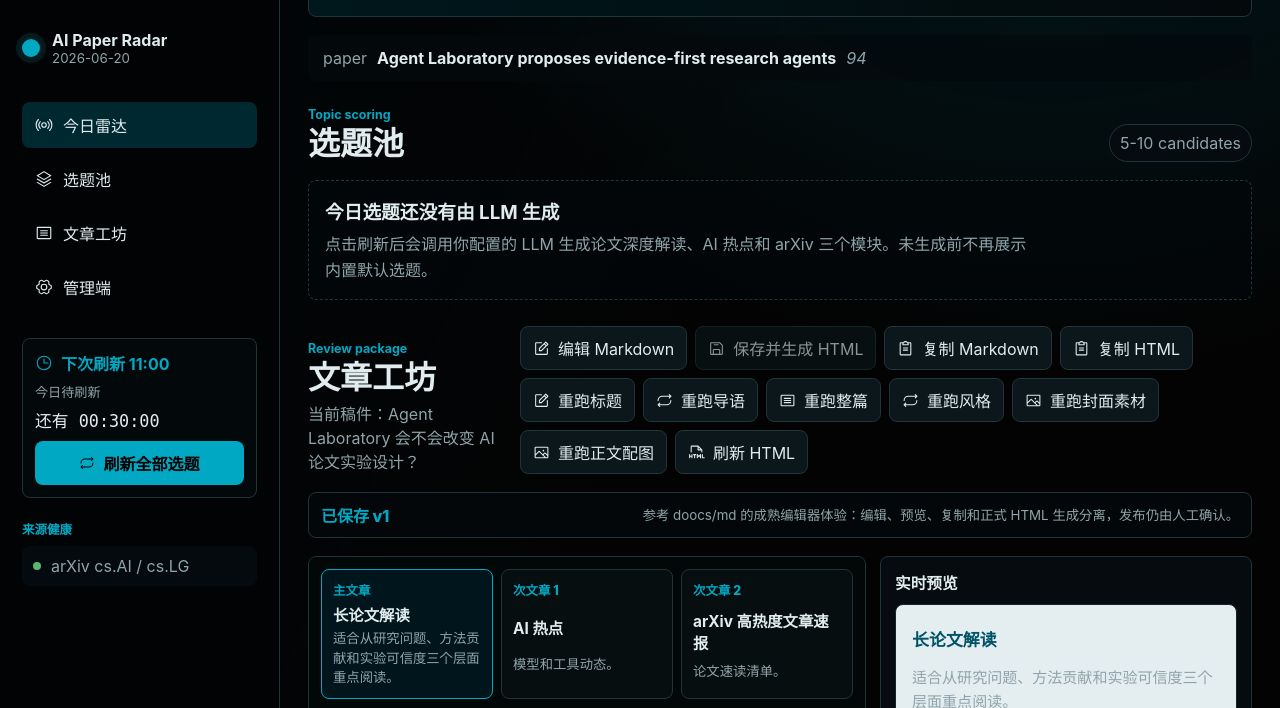
Test: reruns a draft stage and reloads visible draft detail
(page scrolled)
Click the button "重跑标题" at {"x": 577, "y": 400}, box left=520, top=378, right=635, bottom=422
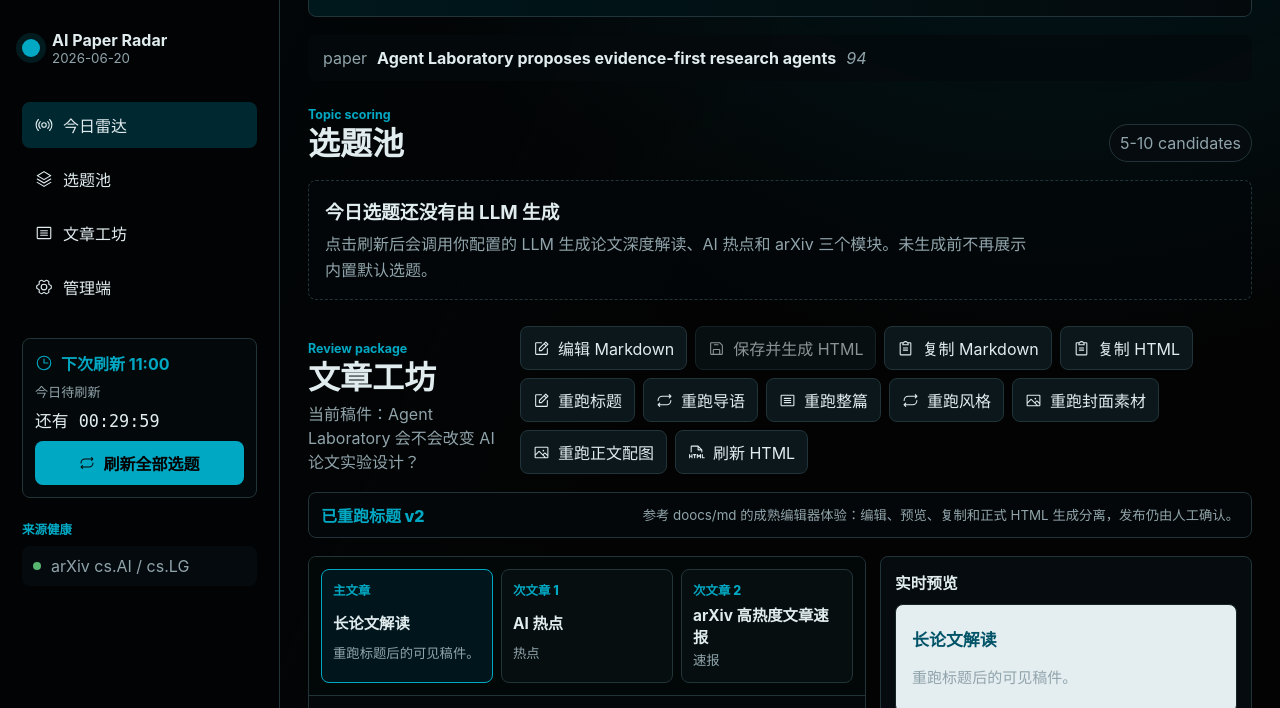
expect the text "已重跑标题 v2" is shown: met, box left=321, top=503, right=425, bottom=527
